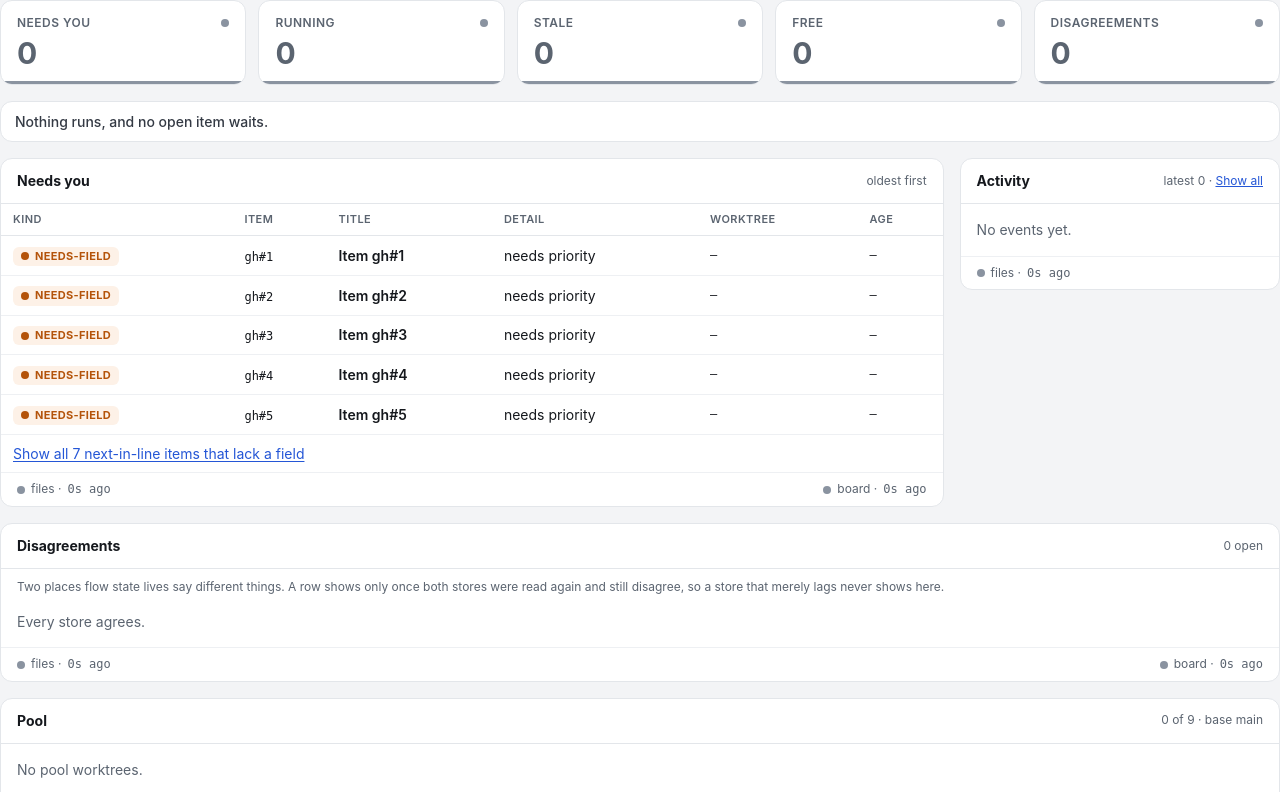
ShowAllPressed_ListsEveryItemWaitingOnAField
Click the button "Show all 7 next-in-line items that lack a field" at (159, 454), box [13, 444, 304, 464]
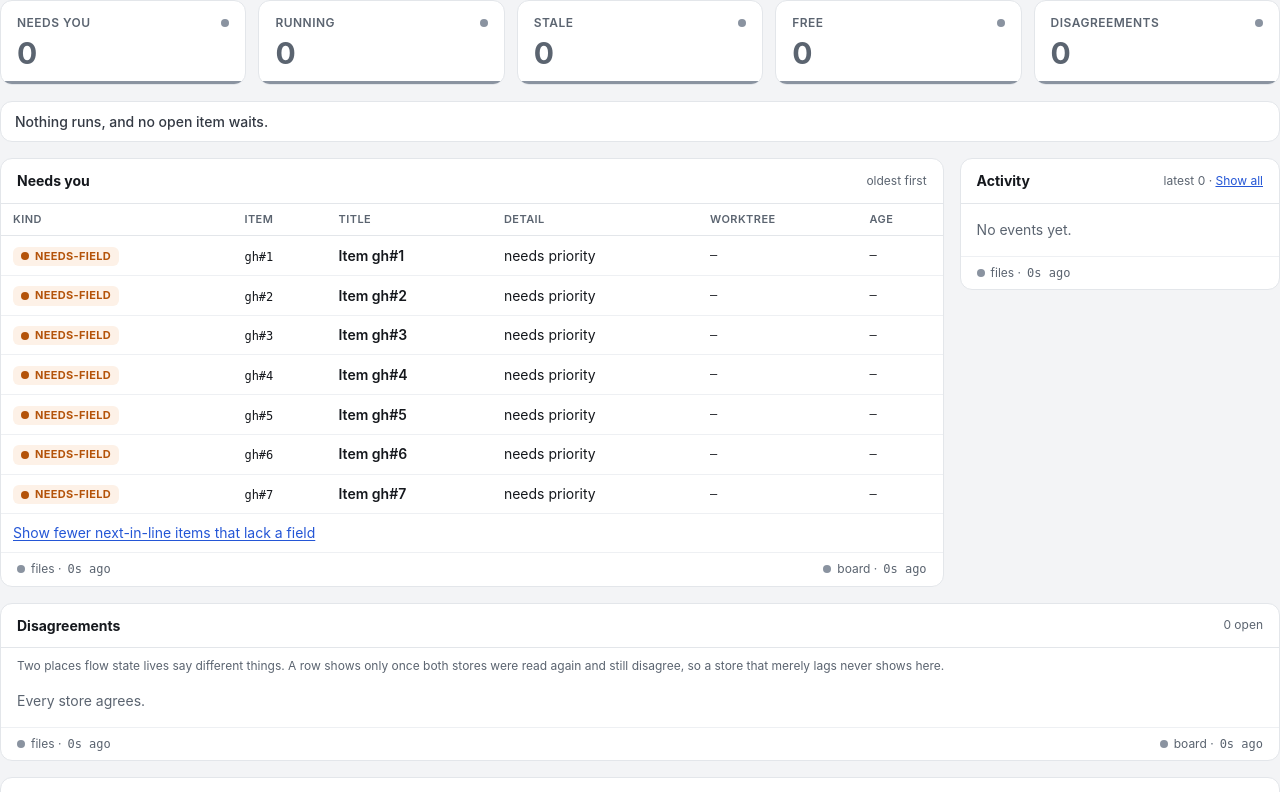
Check: the text "needs priority" is shown 7 times
